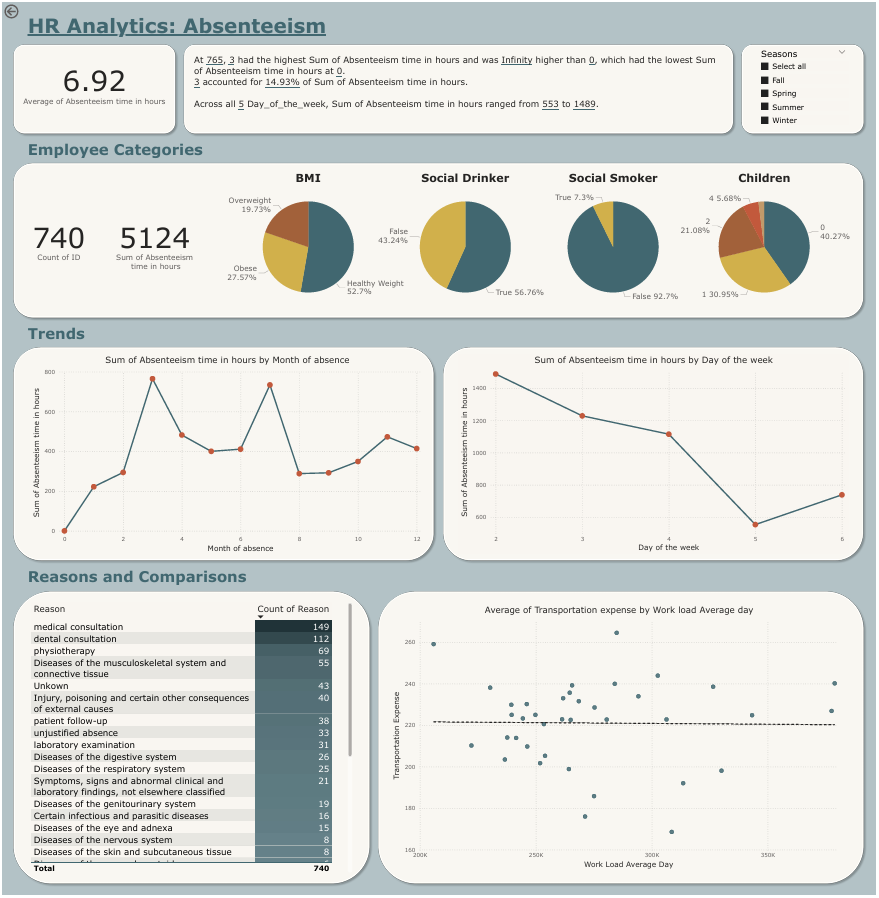

Layout of this report page (visuals, bound fields, positions):
{"tool":"powerbi","page":{"name":"Page 1","canvas":[1880,1920],"ordinal":0},"visuals":[{"type":"shape","box":[800,1258.3,1063.3,646.7],"z":0},{"type":"shape","box":[15,1258.3,785,646.7],"z":1000},{"type":"shape","box":[940,733.3,921.7,476.7],"z":2000},{"type":"shape","box":[15,733.3,923.3,476.7],"z":3000},{"type":"shape","box":[1581.7,81.7,281.7,210],"z":4000},{"type":"shape","box":[381.7,82.3,1200,210],"z":5000},{"type":"shape","box":[15,81.7,366.7,210],"z":6000},{"type":"shape","box":[15,336.6,1846.7,351.7],"z":7000},{"type":"pieChart","title":"BMI","fields":{"Category":["Query1.BMI_Category"],"Y":["CountNonNull(Query1.BMI_Category)"]},"box":[446.7,362.3,423.3,300],"z":8000},{"type":"card","fields":{"Values":["Avg(Query1.Absenteeism_time_in_hours)"]},"box":[40,93.3,316.7,163.3],"z":9000},{"type":"pieChart","title":"Children","fields":{"Category":["Query1.Son"],"Y":["CountNonNull(Query1.Son)"]},"box":[1428.3,362.3,423.3,300],"z":10000},{"type":"pieChart","title":"Social Drinker","fields":{"Y":["CountNonNull(Query1.Social_drinker)"],"Category":["Query1.Social_drinker"]},"box":[785,362.3,423.3,300],"z":11000},{"type":"pieChart","title":"Social Smoker","fields":{"Y":["CountNonNull(Query1.Social_smoker)"],"Category":["Query1.Social_smoker"]},"box":[1103.3,362.3,423.3,300],"z":12000},{"type":"card","fields":{"Values":["Count(Query1.ID)"]},"box":[26.7,417.3,190,190],"z":13000},{"type":"card","fields":{"Values":["Sum(Query1.Absenteeism time in hours)"]},"box":[233.3,417.3,190,190],"z":14000},{"type":"lineChart","fields":{"Category":["Query1.Month_of_absence"],"Y":["Sum(Query1.Absenteeism time in hours)"]},"box":[61.7,758.3,845,430],"z":15000},{"type":"lineChart","fields":{"Category":["Query1.Day_of_the_week"],"Y":["Sum(Query1.Absenteeism time in hours)"]},"box":[981.7,756.7,840,430],"z":16000},{"type":"tableEx","fields":{"Values":["Query1.Reason","CountNonNull(Query1.Reason)"]},"box":[56.7,1286.7,701.7,590],"z":17000},{"type":"scatterChart","fields":{"X":["Query1.Work_load_Average_day"],"Y":["Avg(Query1.Transportation_expense)"]},"box":[836.7,1295,981.7,573.3],"z":18000},{"type":"textbox","box":[408.3,106.7,1145,210],"z":19000},{"type":"slicer","fields":{"Values":["Query1.Season_Names"]},"box":[1620,93.3,206.7,186.7],"z":20000},{"type":"actionButton","box":[0,0,100,40],"z":21000},{"type":"textbox","box":[50,18.3,678.3,61.7],"z":22000},{"type":"textbox","box":[50,291.7,456.7,50],"z":23000},{"type":"textbox","box":[50,688.3,178.3,53.3],"z":24000},{"type":"textbox","box":[50,1210,545,50],"z":25000}]}

Visuals, with their boxes in screenshot pixels (x1, y1, x2, y2), scaled from the page's 1880x1920 canvas onto the 879x898 screenshot:
shape: bbox(374, 589, 871, 891)
shape: bbox(7, 589, 374, 891)
shape: bbox(440, 343, 870, 566)
shape: bbox(7, 343, 439, 566)
shape: bbox(740, 38, 871, 136)
shape: bbox(178, 38, 740, 137)
shape: bbox(7, 38, 178, 136)
shape: bbox(7, 157, 870, 322)
"BMI" pieChart: bbox(209, 169, 407, 310)
card - Avg(Query1.Absenteeism_time_in_hours): bbox(19, 44, 167, 120)
"Children" pieChart: bbox(668, 169, 866, 310)
"Social Drinker" pieChart: bbox(367, 169, 565, 310)
"Social Smoker" pieChart: bbox(516, 169, 714, 310)
card - Count(Query1.ID): bbox(12, 195, 101, 284)
card - Sum(Query1.Absenteeism time in hours): bbox(109, 195, 198, 284)
lineChart - Query1.Month_of_absence x Sum(Query1.Absenteeism time in hours): bbox(29, 355, 424, 556)
lineChart - Query1.Day_of_the_week x Sum(Query1.Absenteeism time in hours): bbox(459, 354, 852, 555)
tableEx - Query1.Reason x CountNonNull(Query1.Reason): bbox(27, 602, 355, 878)
scatterChart - Query1.Work_load_Average_day x Avg(Query1.Transportation_expense): bbox(391, 606, 850, 874)
textbox: bbox(191, 50, 726, 148)
slicer - Query1.Season_Names: bbox(757, 44, 854, 131)
actionButton: bbox(0, 0, 47, 19)
textbox: bbox(23, 9, 341, 37)
textbox: bbox(23, 136, 237, 160)
textbox: bbox(23, 322, 107, 347)
textbox: bbox(23, 566, 278, 589)
